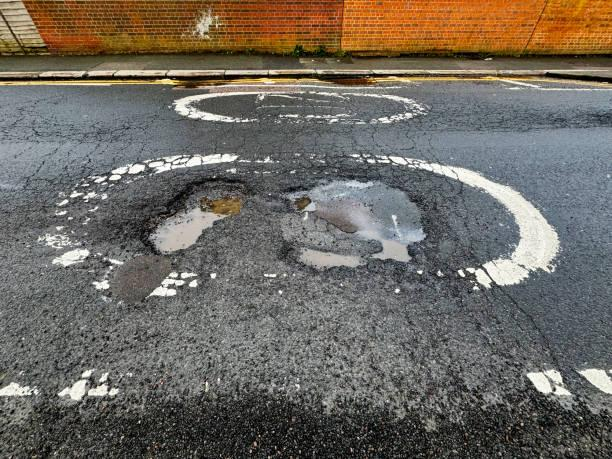faded_road_lines: (57, 145, 566, 314), (2, 367, 612, 419), (152, 82, 442, 135)
pothole: (276, 168, 435, 275), (142, 176, 250, 257), (157, 72, 236, 86), (324, 73, 382, 86)
